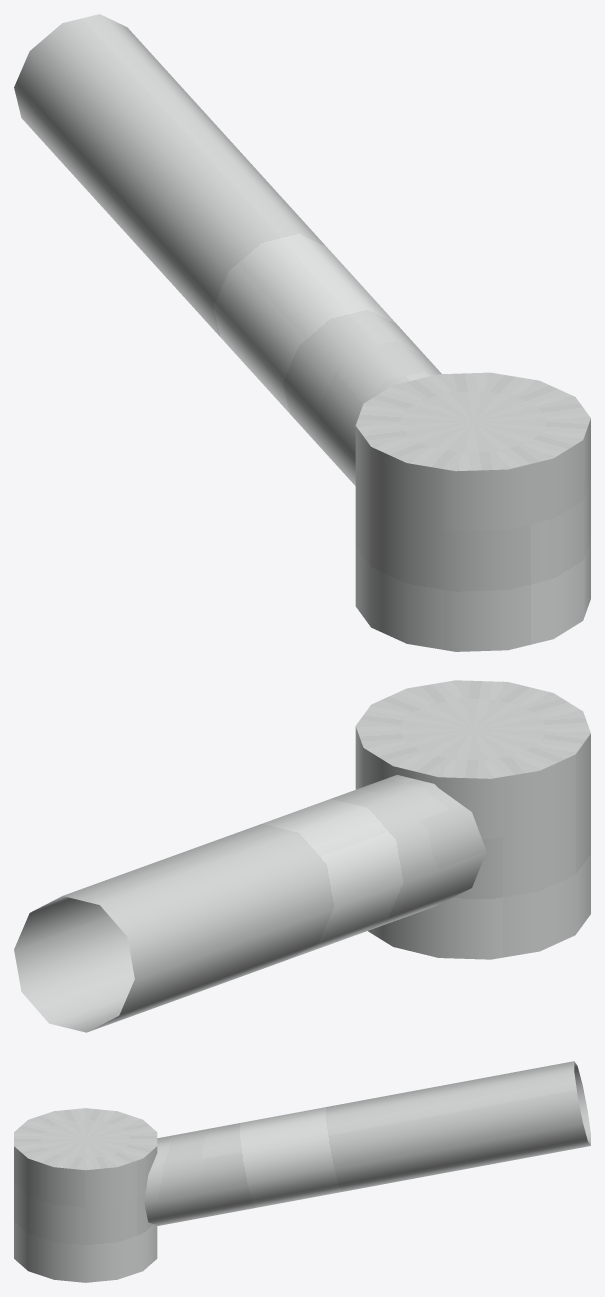
File: trusssignalarm_level6_c1_pedestal.obj
3 renders of one model, top to bottom at view 1: azimuth 30°, elevation 25°; view 2: azimuth 150°, elevation 25°; view 3: azimuth 270°, elevation 25°, orthographic. The views are drawn at different scales.
Parts seen in each view (by area): view 1: trusssignalarm_level6_c1_pedestal; view 2: trusssignalarm_level6_c1_pedestal; view 3: trusssignalarm_level6_c1_pedestal.
Part boxes in pixels (box(x1,y1,x2,y2)): trusssignalarm_level6_c1_pedestal: box(14, 14, 590, 651); trusssignalarm_level6_c1_pedestal: box(14, 680, 590, 1032); trusssignalarm_level6_c1_pedestal: box(14, 1061, 590, 1282).
Size of the model in its own units: 0.4438 by 0.6161 by 1.74.
